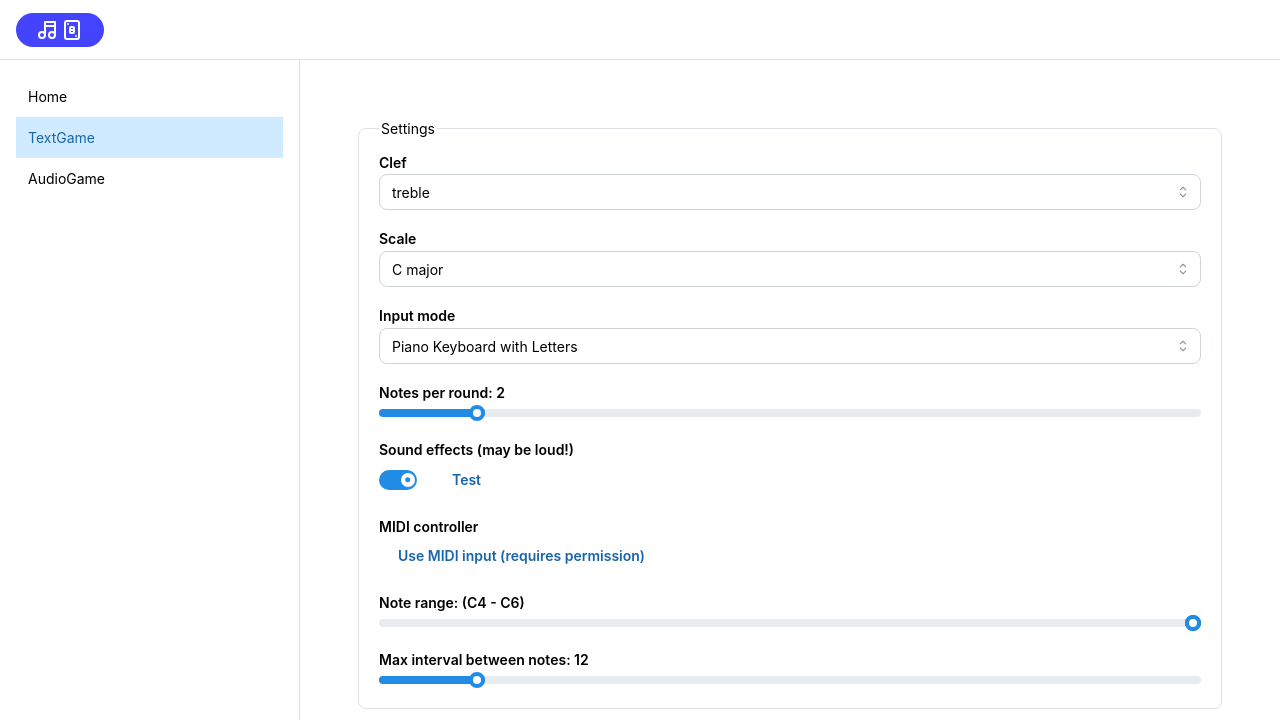
Test: App routing › navigates to the AudioGame placeholder via the nav link
What coordinates should you click on to do the following:
click the link "AudioGame"
I would click on:
 (66, 178)
Its box is x1=28 y1=170 x2=105 y2=187.
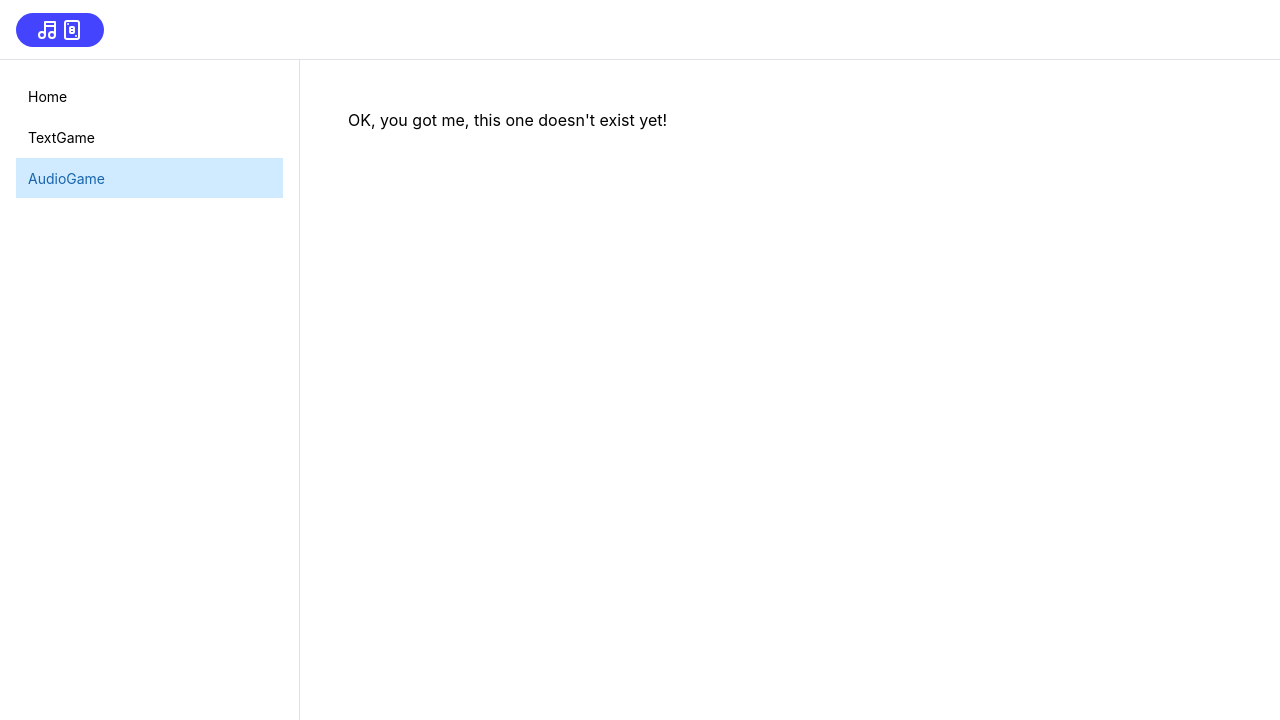
expect the text "OK, you got me, this one doesn't exist yet!" is shown: met, box x1=348 y1=110 x2=667 y2=130
